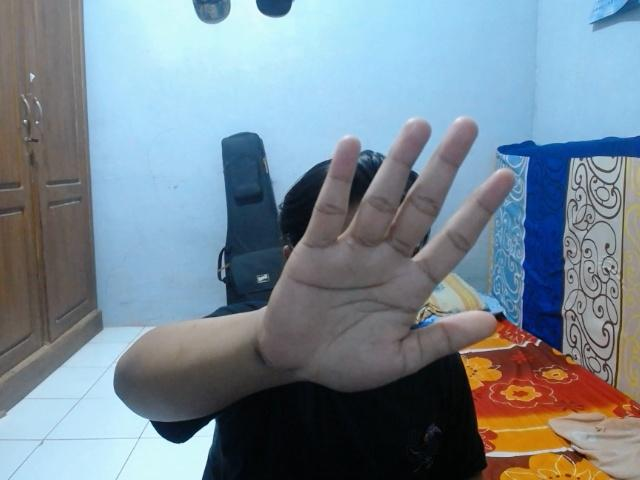Release: (250, 113, 519, 401)
